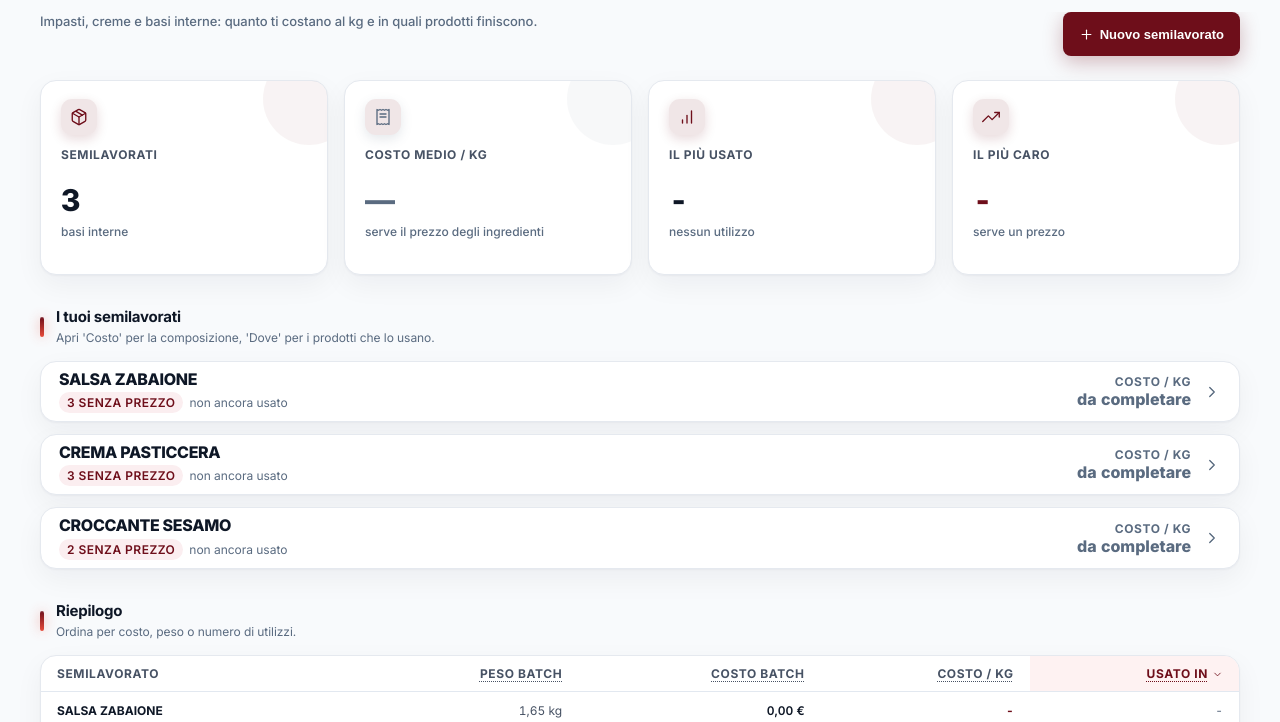
Test: La barra chiusa di una base dice il minimo indispensabile › cliccando si apre e si vedono i comandi
Click the button that starts with "SALSA ZABAIONE": (128, 379) x1=41 y1=362 x2=1239 y2=421
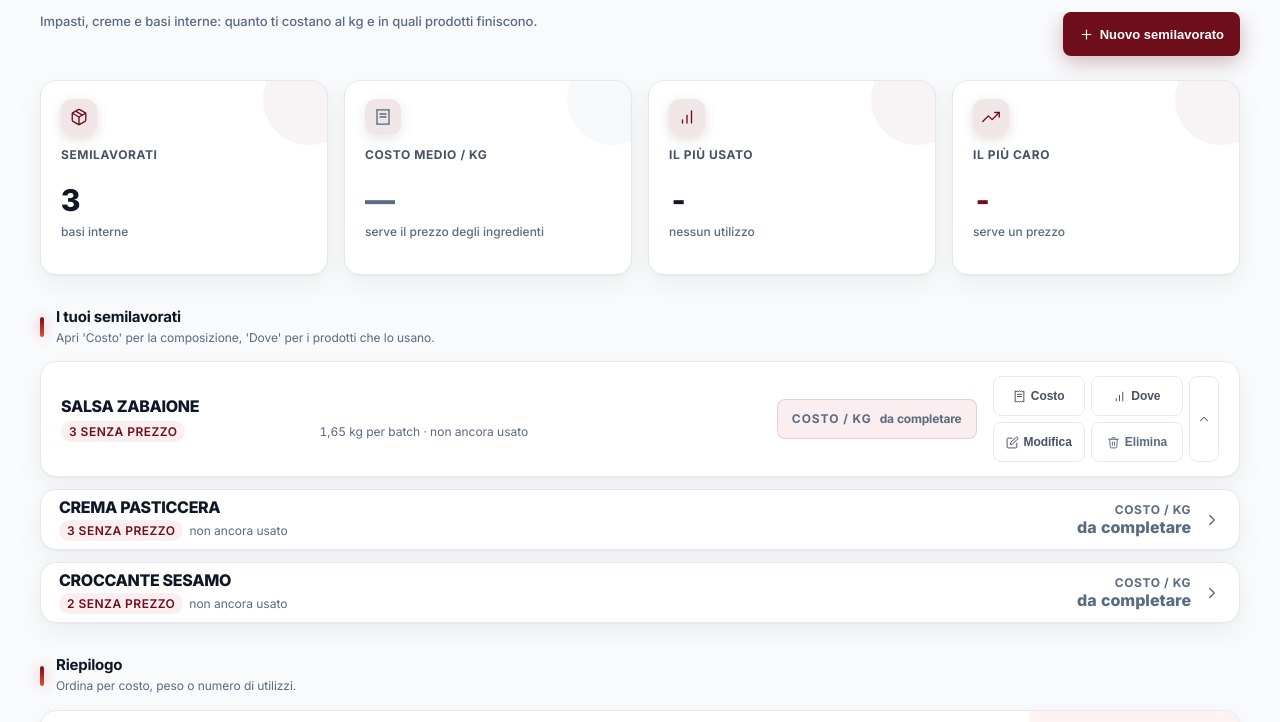
Expected: the text "Elimina" is shown, x1=1091 y1=422 x2=1183 y2=462
Expected: the text "Modifica" is shown, x1=993 y1=422 x2=1085 y2=462
